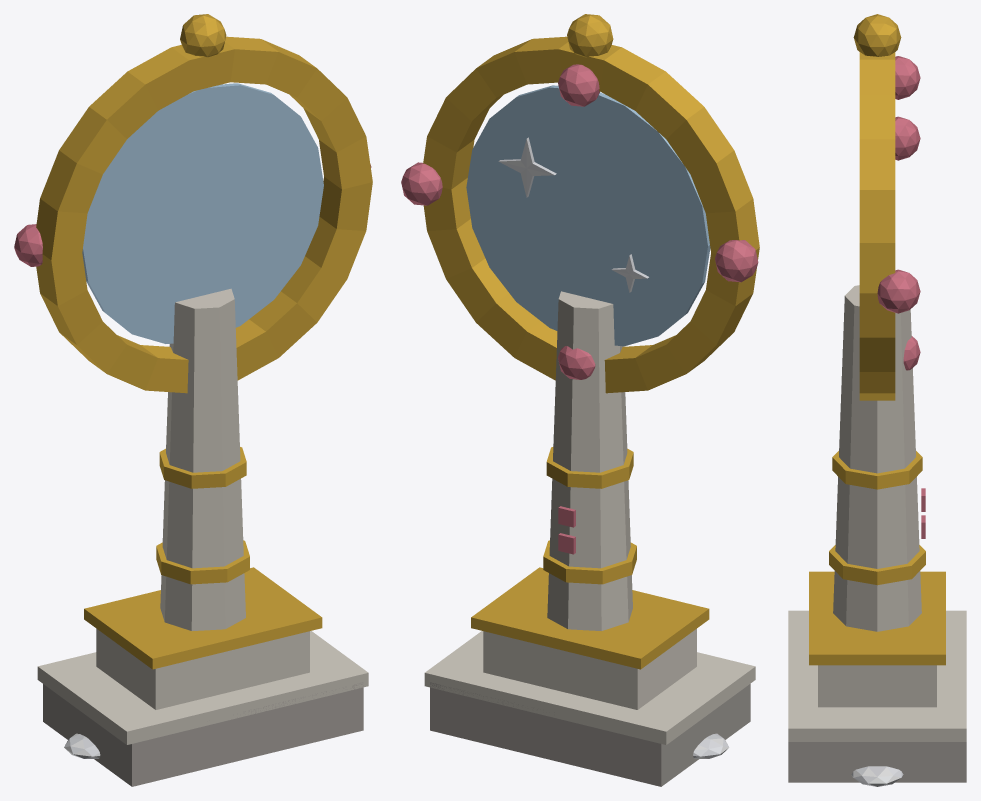
The model's file is Decor_CloudTemple_HaloMonument.fbx.
The picture shows the model from 3 angles, left to right: view 1: azimuth 30°, elevation 25°; view 2: azimuth 150°, elevation 25°; view 3: azimuth 270°, elevation 25°; orthographic projection.
Parts seen in each view (by area): view 1: HaloMonument_Body; view 2: HaloMonument_Body; view 3: HaloMonument_Body.
Part boxes in pixels (x1,y1,x2,y2): HaloMonument_Body: (14, 14, 372, 786); HaloMonument_Body: (401, 14, 759, 786); HaloMonument_Body: (788, 14, 966, 786).
Size of the model in its own units: 13.6 by 26.4 by 6.
